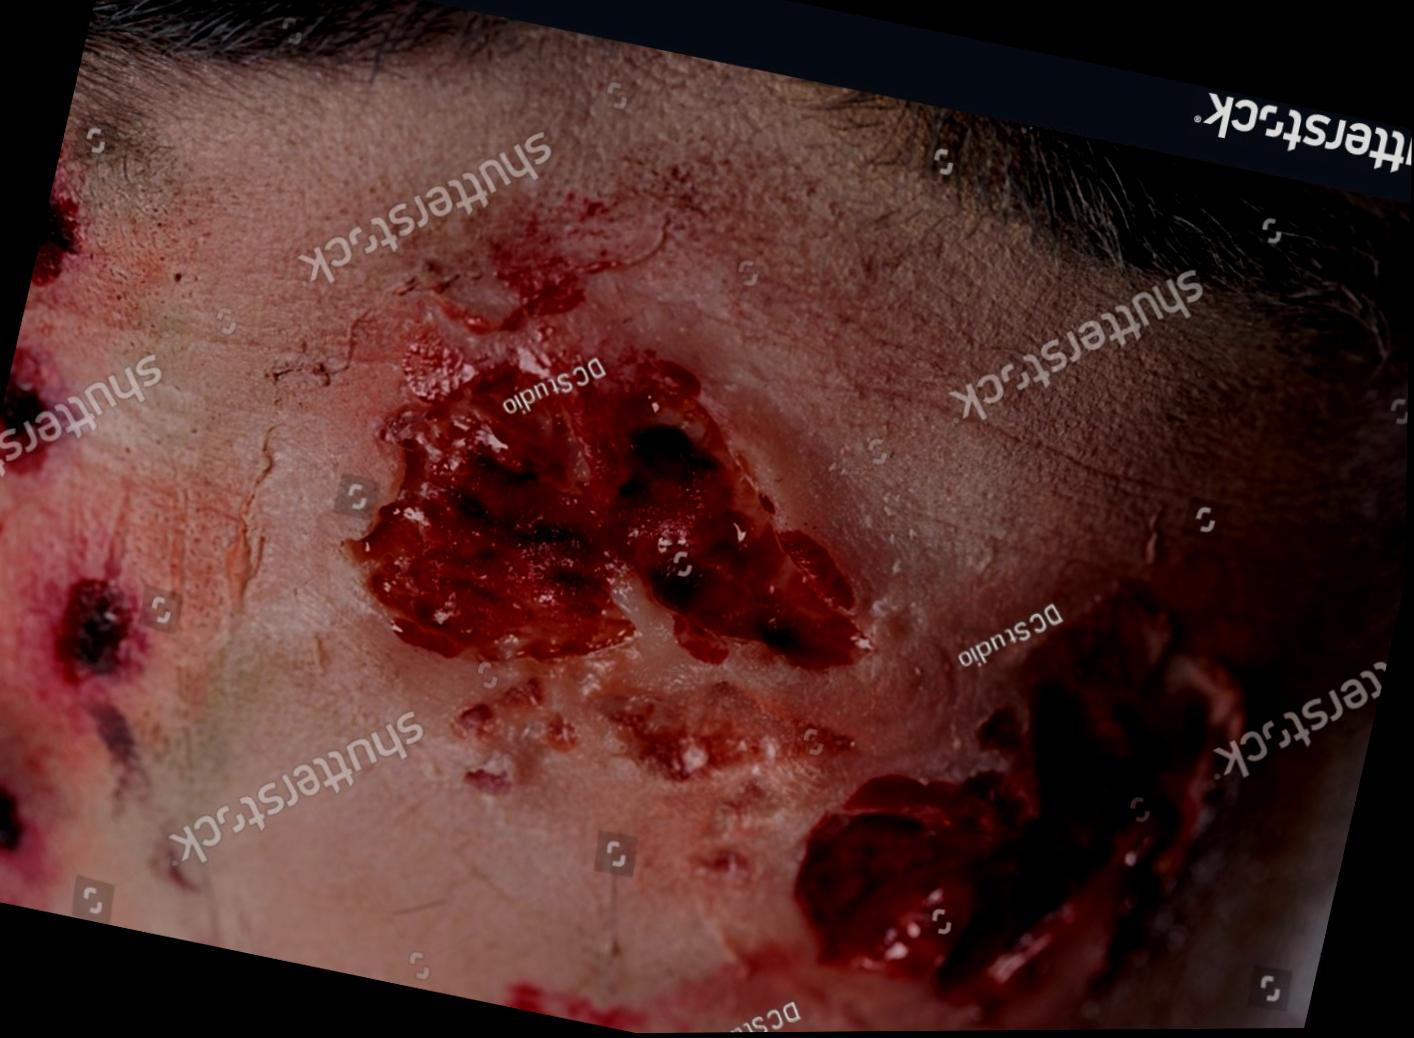Fire: (351, 258, 879, 799), (797, 594, 1247, 1014), (0, 350, 60, 474), (503, 986, 648, 1034), (60, 583, 124, 676), (32, 193, 75, 284), (0, 791, 22, 850)
